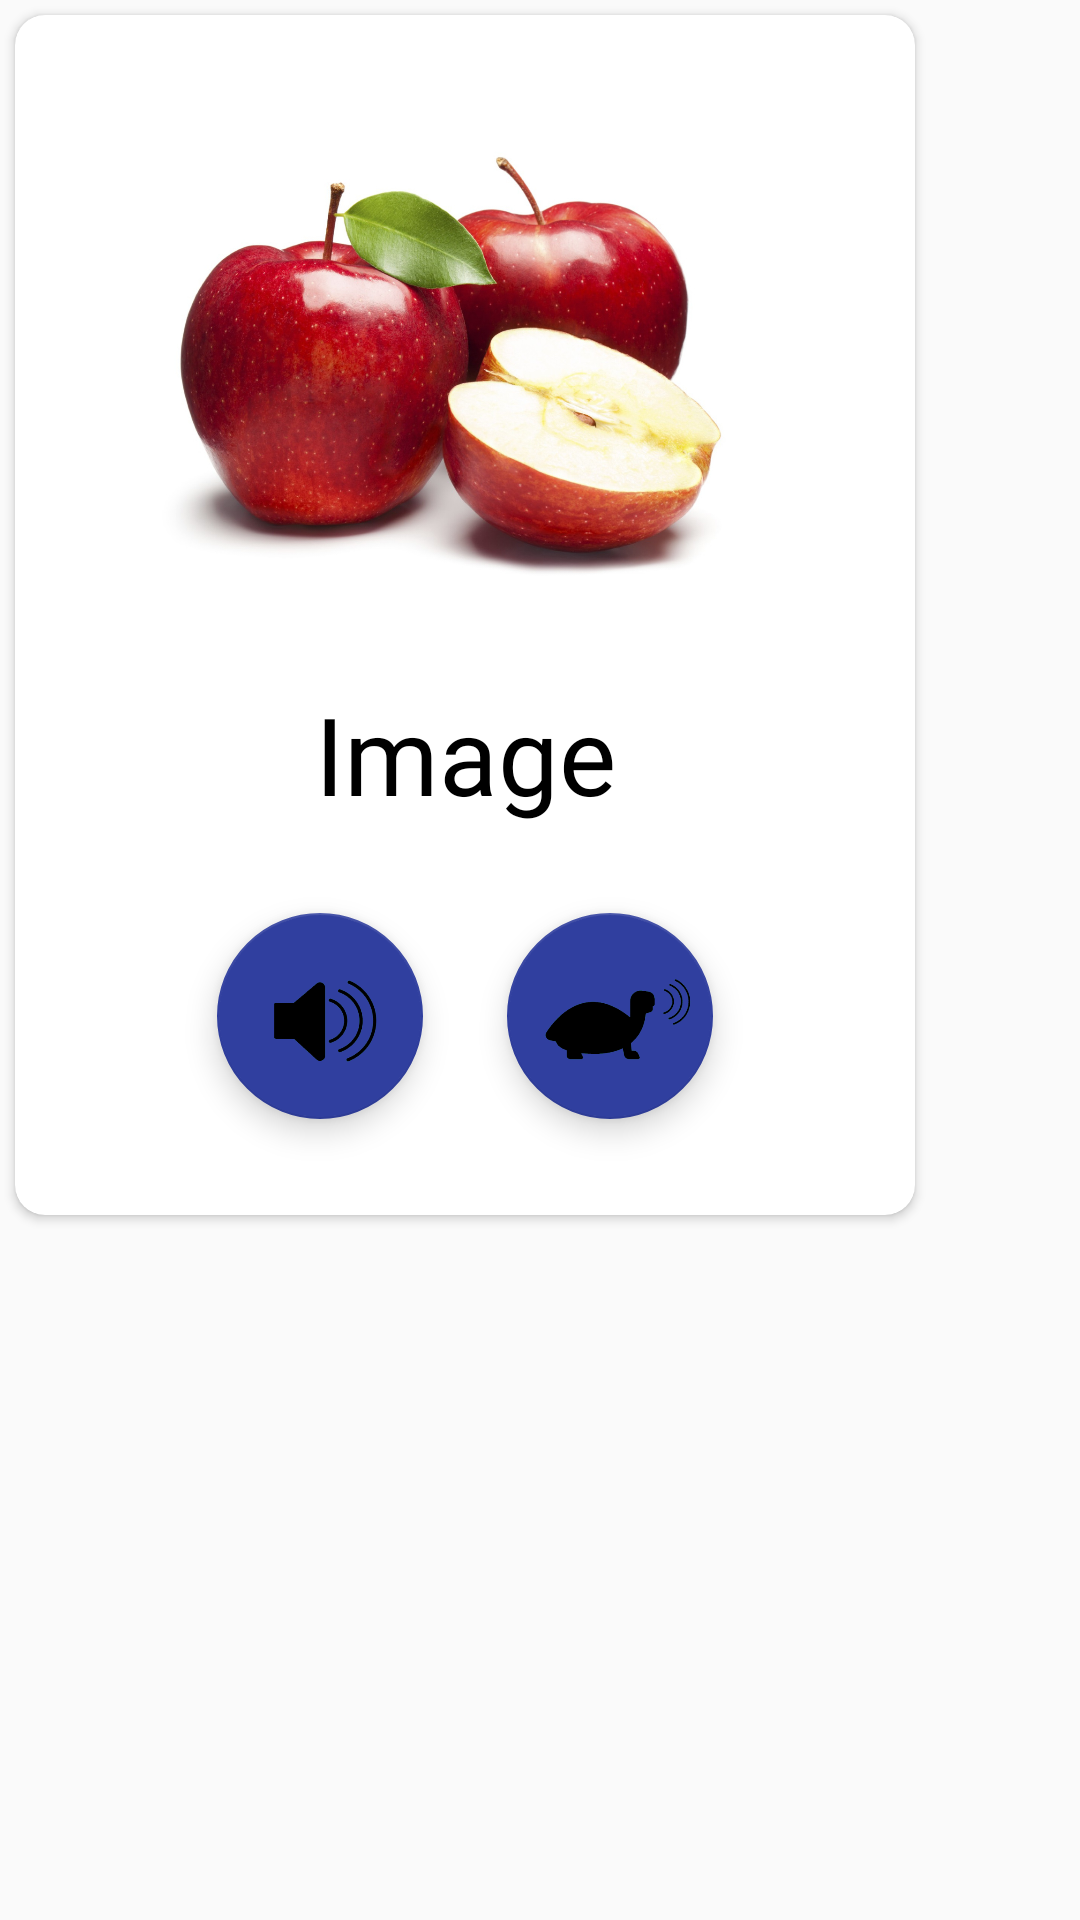

Where icons sit on this 1080*1920 app screen, as {"left": x1, "top": y1, "right": x2, "bottom": y2}:
bocina: {"left": 217, "top": 913, "right": 423, "bottom": 1119}
tortuga: {"left": 507, "top": 913, "right": 713, "bottom": 1119}
